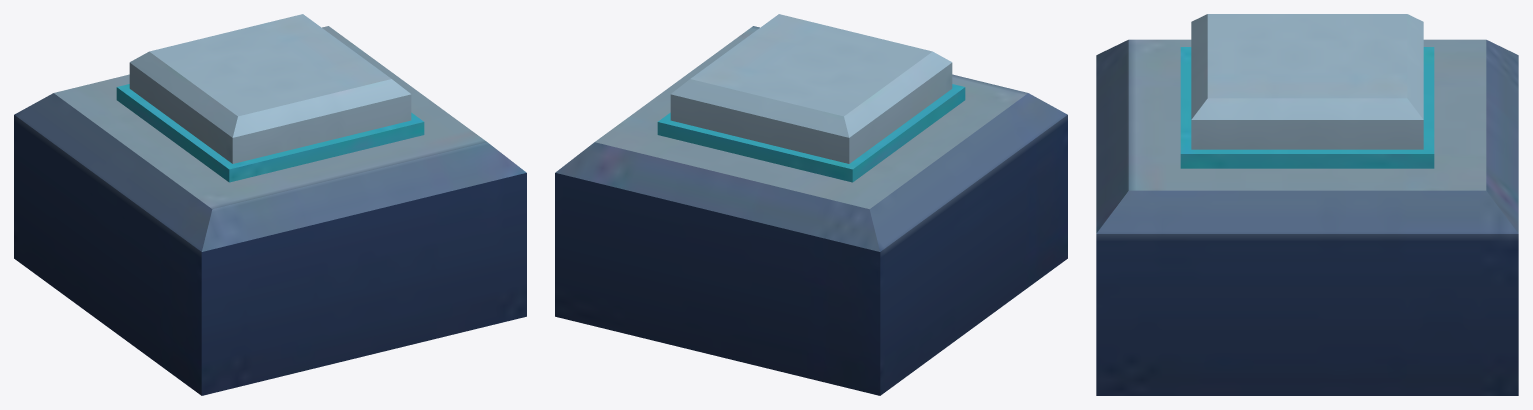
The model's file is lab.glb.
3 views of the same model, side by side, from view 1: azimuth 30°, elevation 25°; view 2: azimuth 150°, elevation 25°; view 3: azimuth 270°, elevation 25° (orthographic). The views are drawn at different scales.
Parts seen in each view (by area): view 1: lab; view 2: lab; view 3: lab.
Part boxes in pixels (left/top/right/bottom): lab: left=14, top=14, right=526, bottom=395; lab: left=555, top=14, right=1067, bottom=395; lab: left=1096, top=14, right=1518, bottom=395.
Bounding box in the file's own units: 0.26 × 0.17 × 0.26.
1 material, 1 textured.
